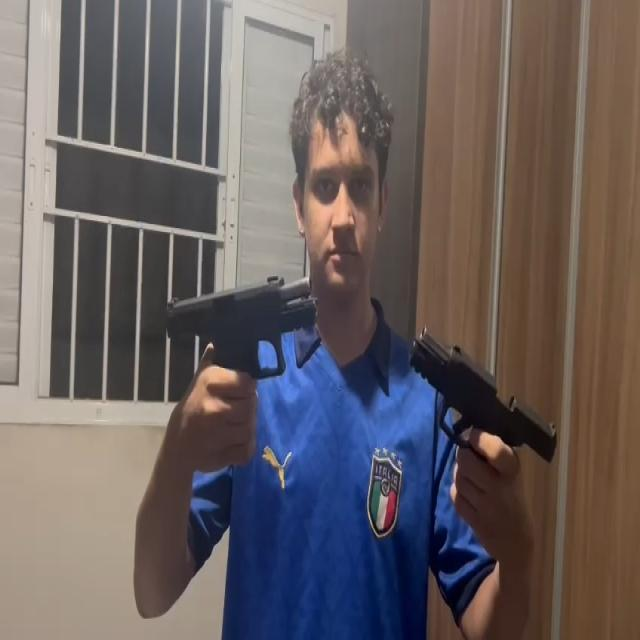gun: (408, 312, 556, 466), (163, 271, 319, 382)
